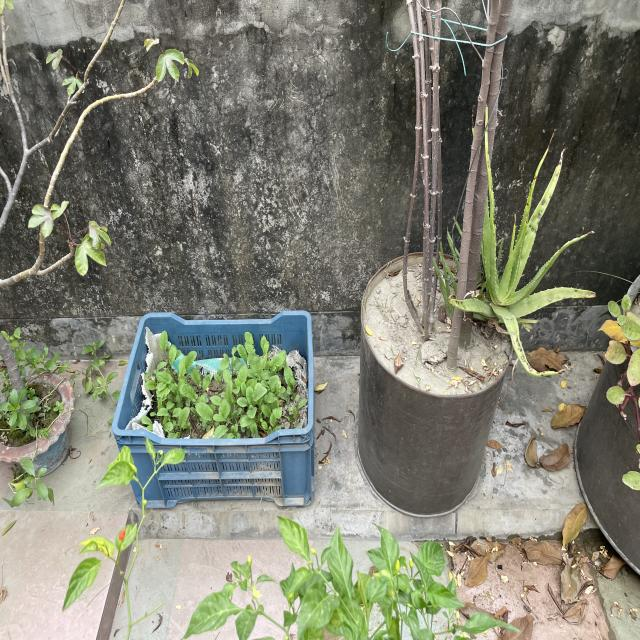Breeding Place: (361, 248, 515, 508), (126, 311, 322, 506), (1, 370, 76, 480)
